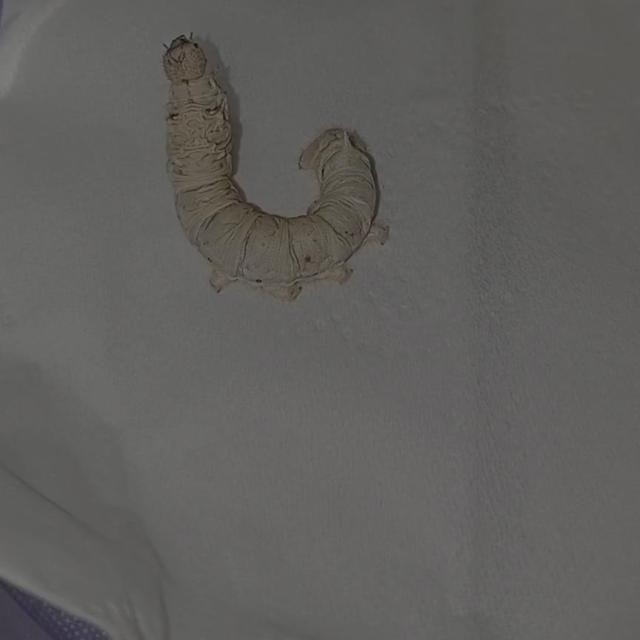Healthy: (147, 5, 413, 328)
